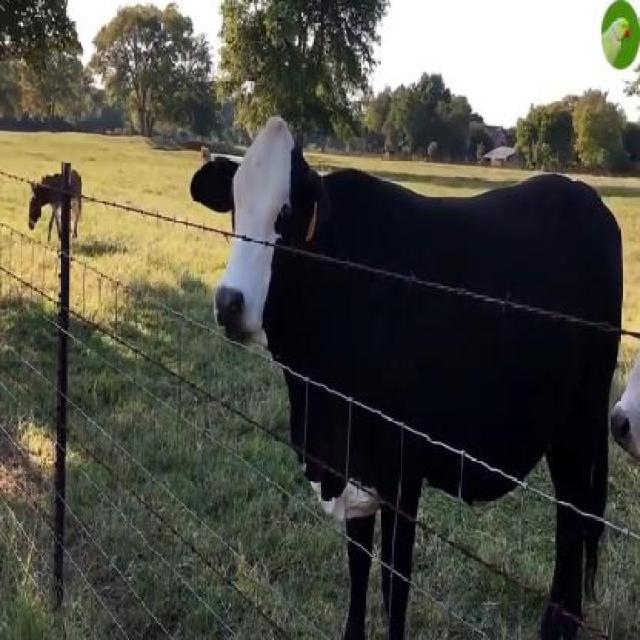Cow: (189, 112, 622, 630)
